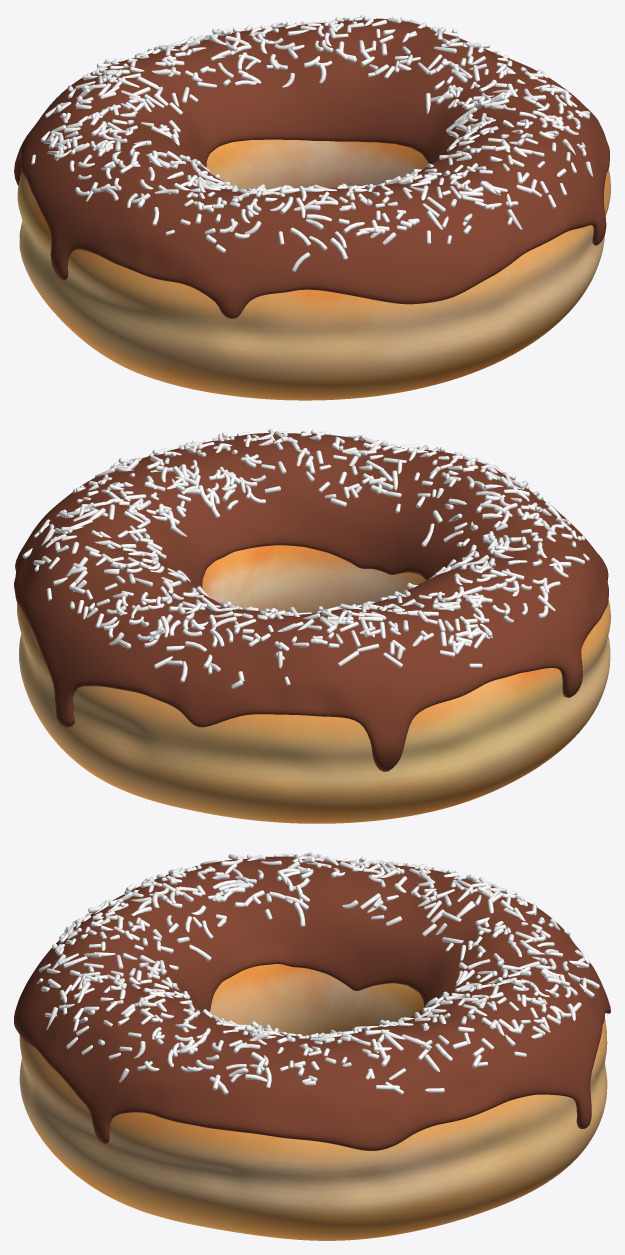
The model's file is donut1.glb.
The picture shows the model from 3 angles, top to bottom: view 1: azimuth 30°, elevation 25°; view 2: azimuth 150°, elevation 25°; view 3: azimuth 270°, elevation 25°; orthographic projection.
Parts seen in each view (by area): view 1: Topping, Donut; view 2: Topping, Donut; view 3: Topping, Donut.
Boxes of the visible parts, box(x1,y1,x2,y2) form: Topping: box(14, 18, 609, 318); Donut: box(17, 139, 610, 400); Topping: box(14, 433, 608, 771); Donut: box(17, 545, 610, 823); Topping: box(14, 856, 610, 1150); Donut: box(19, 964, 607, 1240).
Bounding box in the file's own units: 0.1496 × 0.0563 × 0.1458.
3 materials, 1 textured.
